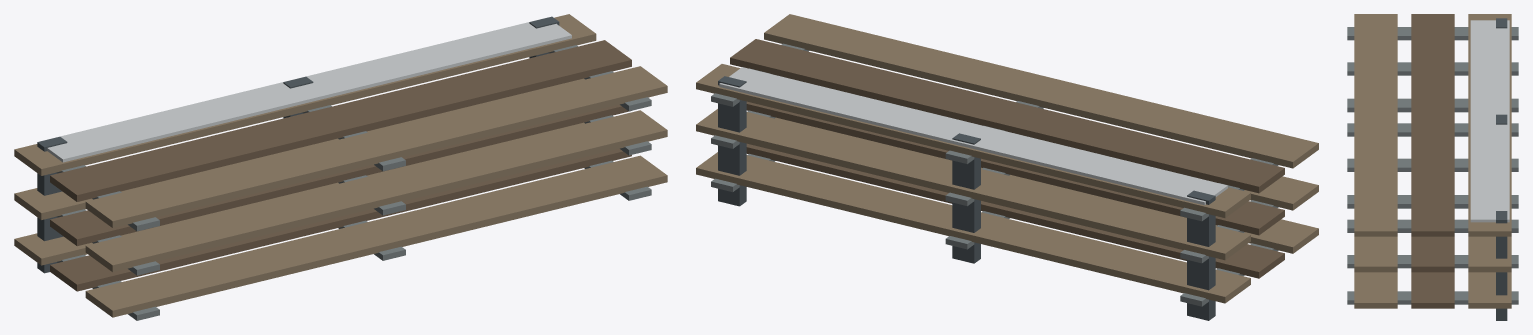
The model's file is lumber_rack.glb.
3 renders of one model, left to right at view 1: azimuth 30°, elevation 25°; view 2: azimuth 150°, elevation 25°; view 3: azimuth 270°, elevation 25°, orthographic. The views are drawn at different scales.
Visible parts, largest first — view 1: lumber_rack; view 2: lumber_rack; view 3: lumber_rack.
Boxes of the visible parts, box(x1,y1,x2,y2) form: lumber_rack: box(14, 14, 667, 320); lumber_rack: box(696, 14, 1318, 320); lumber_rack: box(1347, 14, 1518, 320).
Bounding box in the file's own units: 5.76 × 1.25 × 1.92.
